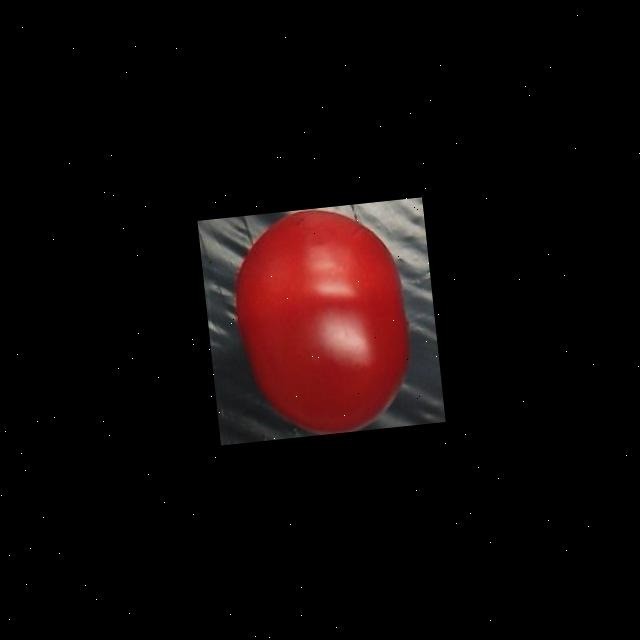tomato: (223, 198, 422, 442)
